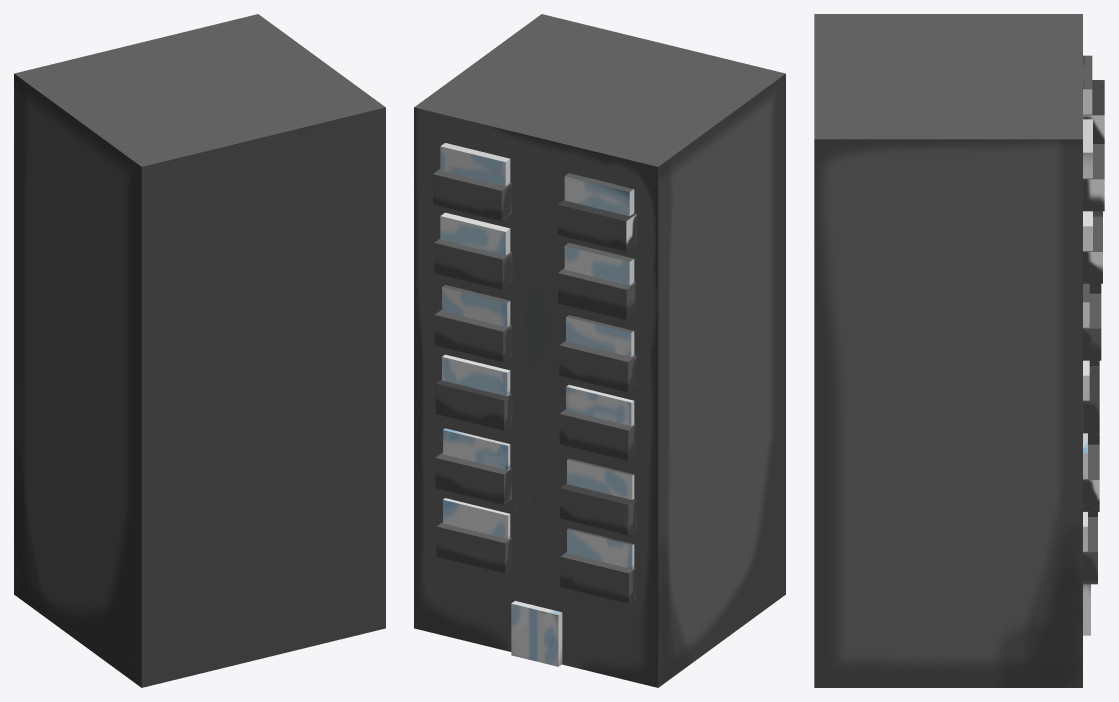
File: predio1beco.fbx
The picture shows the model from 3 angles, left to right: view 1: azimuth 30°, elevation 25°; view 2: azimuth 150°, elevation 25°; view 3: azimuth 270°, elevation 25°; orthographic projection. The views are drawn at different scales.
Parts seen in each view (by area): view 1: Cube; view 2: Cube; view 3: Cube.
Part boxes in pixels (bbox=[...]): Cube: bbox=[14, 14, 385, 687]; Cube: bbox=[414, 14, 785, 687]; Cube: bbox=[814, 14, 1104, 687].
Size of the model in its own units: 565 by 1153 by 553.
